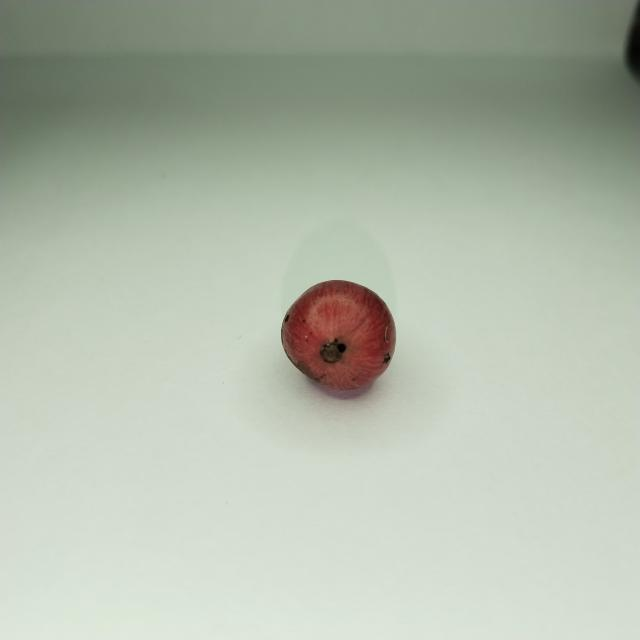Infectado: (281, 280, 393, 393)
